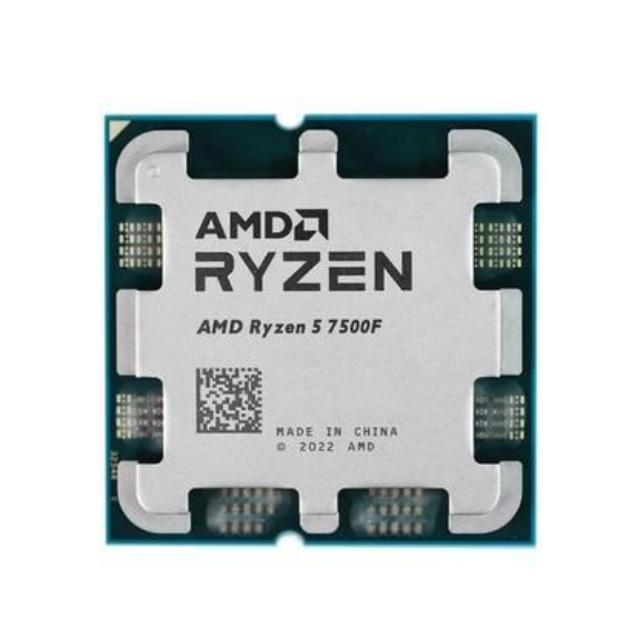CPU: (104, 122, 530, 538)
